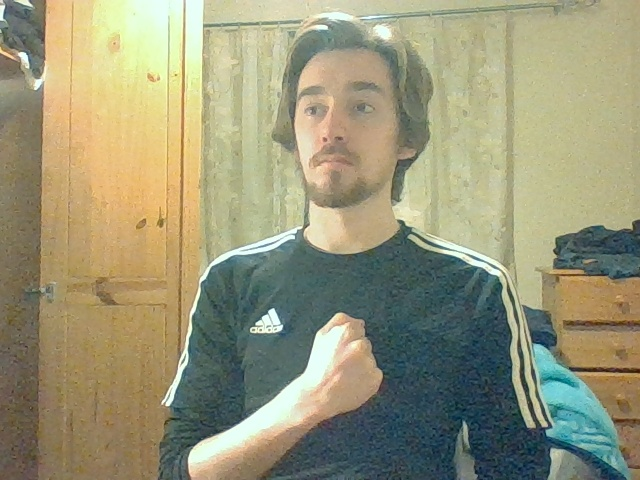my: (309, 310, 383, 407)
